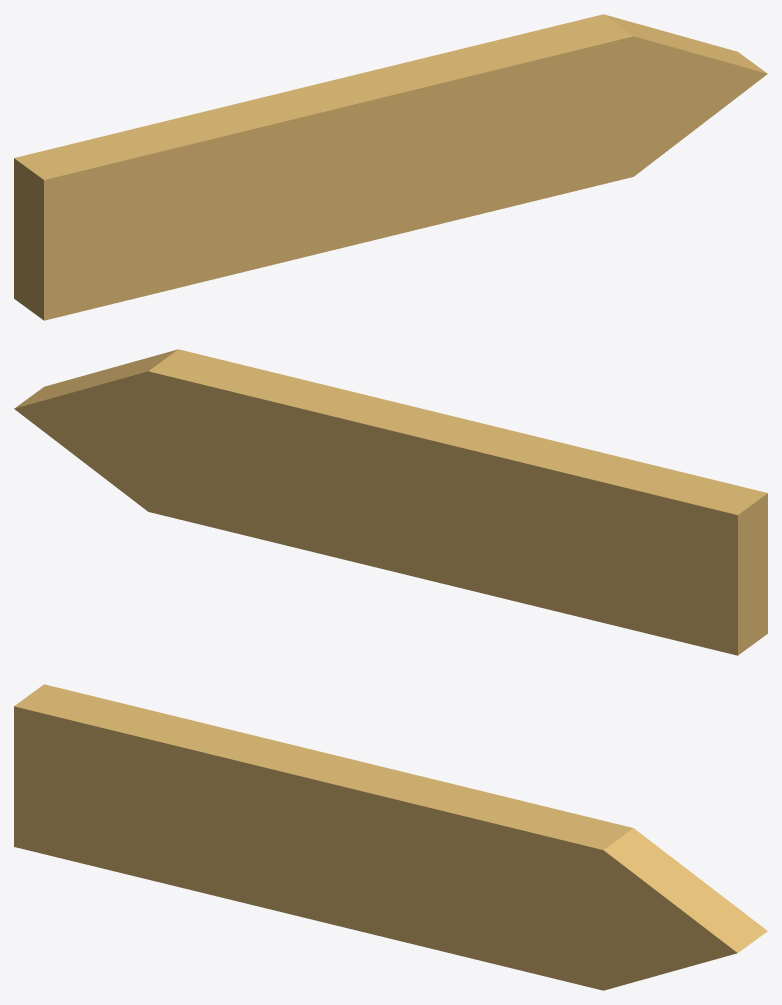
The model's file is Desert_SignPanel.fbx.
The picture shows the model from 3 angles, top to bottom: view 1: azimuth 30°, elevation 25°; view 2: azimuth 150°, elevation 25°; view 3: azimuth 330°, elevation 25°; orthographic projection.
Visible parts, largest first — view 1: Desert_SignPanel; view 2: Desert_SignPanel; view 3: Desert_SignPanel.
Part boxes in pixels (<box>): Desert_SignPanel: <box>14,14,767,320</box>; Desert_SignPanel: <box>14,349,767,655</box>; Desert_SignPanel: <box>14,684,767,990</box>.
Size of the model in its own units: 97 by 18 by 7.
